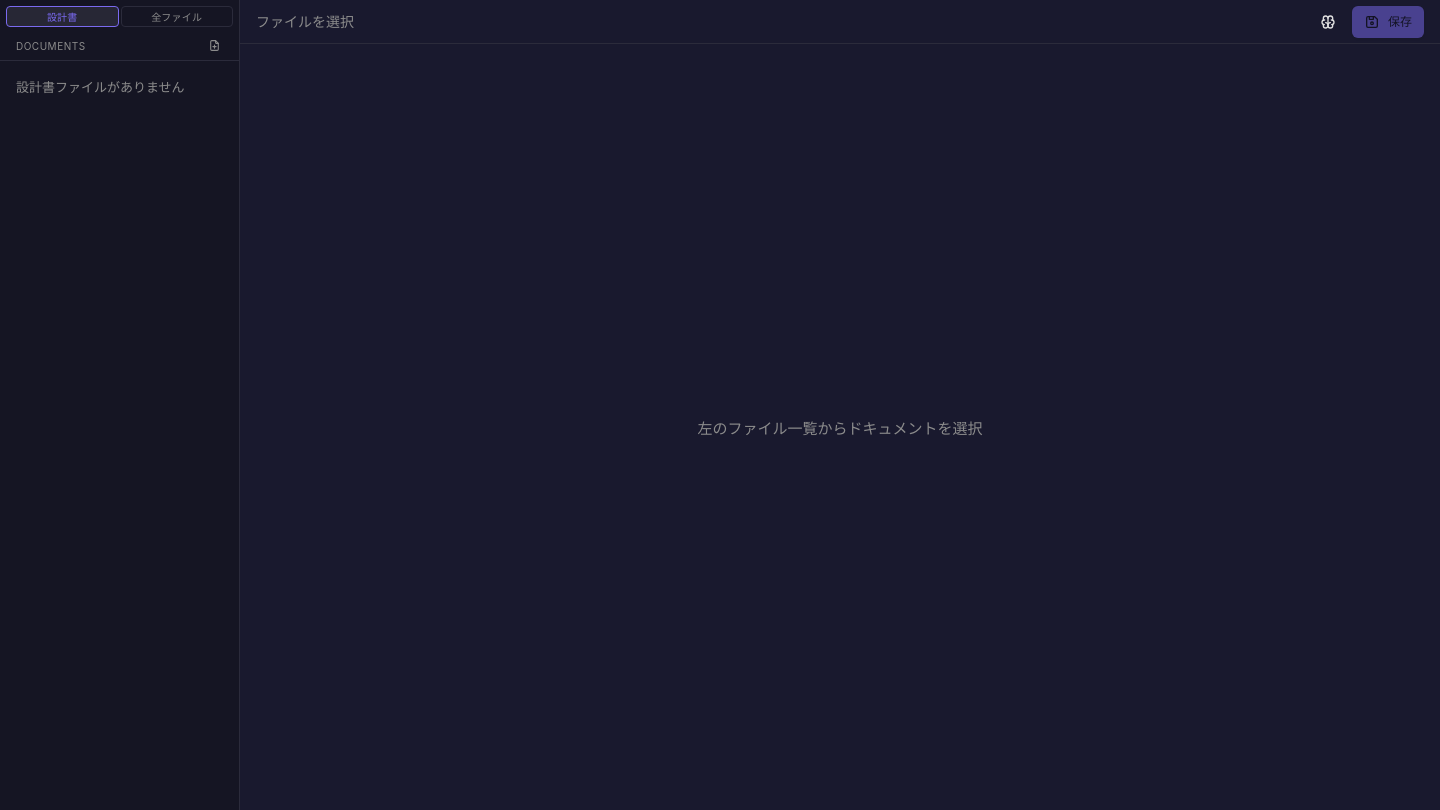
Test: EditorScreen — ファイルツリー操作 › 新規ファイルボタンで入力フォームが表示される
This screenshot has width=1440, height=810.
Step 1. Click the button titled "新規ファイル" → {"x": 214, "y": 46}, box [206, 37, 223, 54]
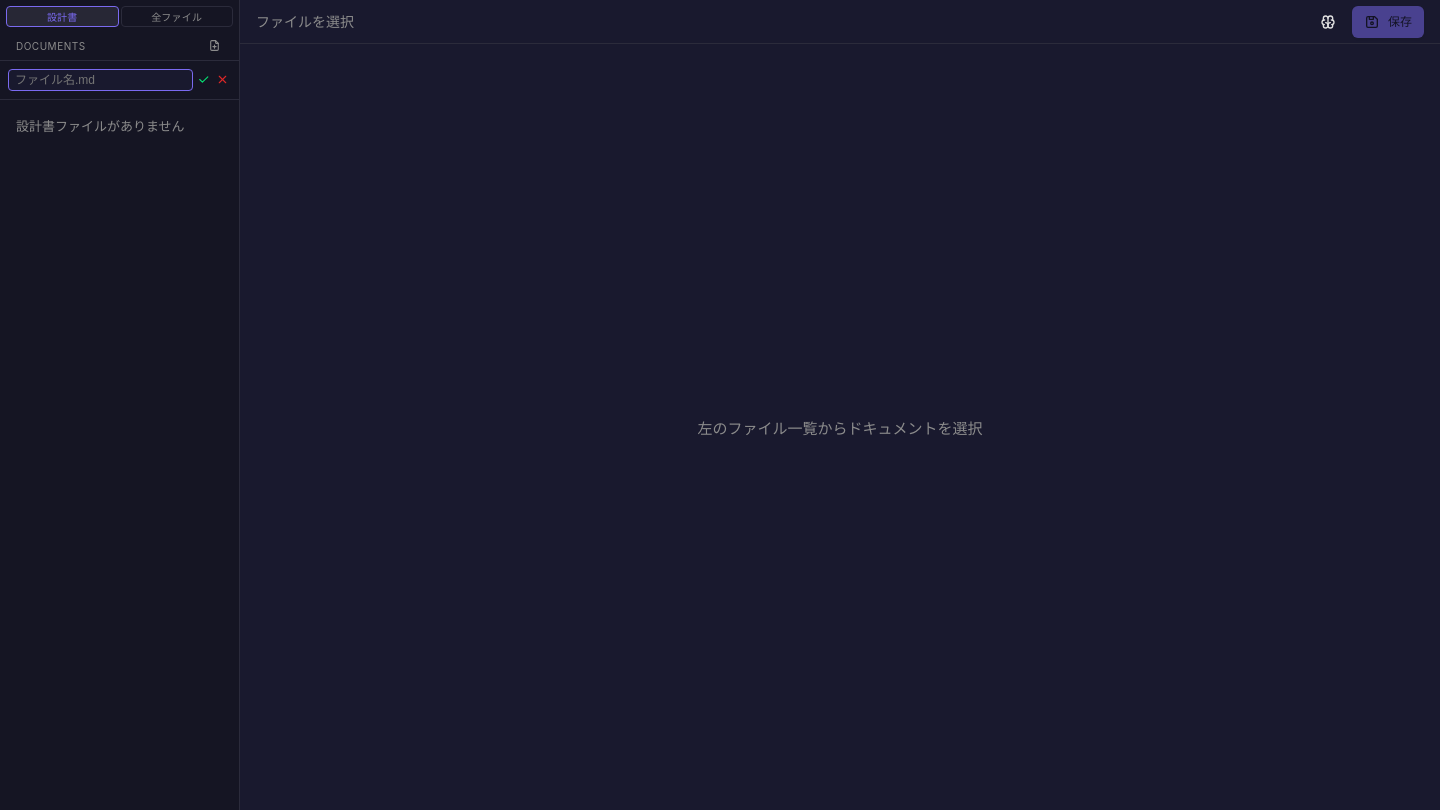
expect the field with placeholder "ファイル名.md" is shown: met, box [8, 69, 193, 91]
